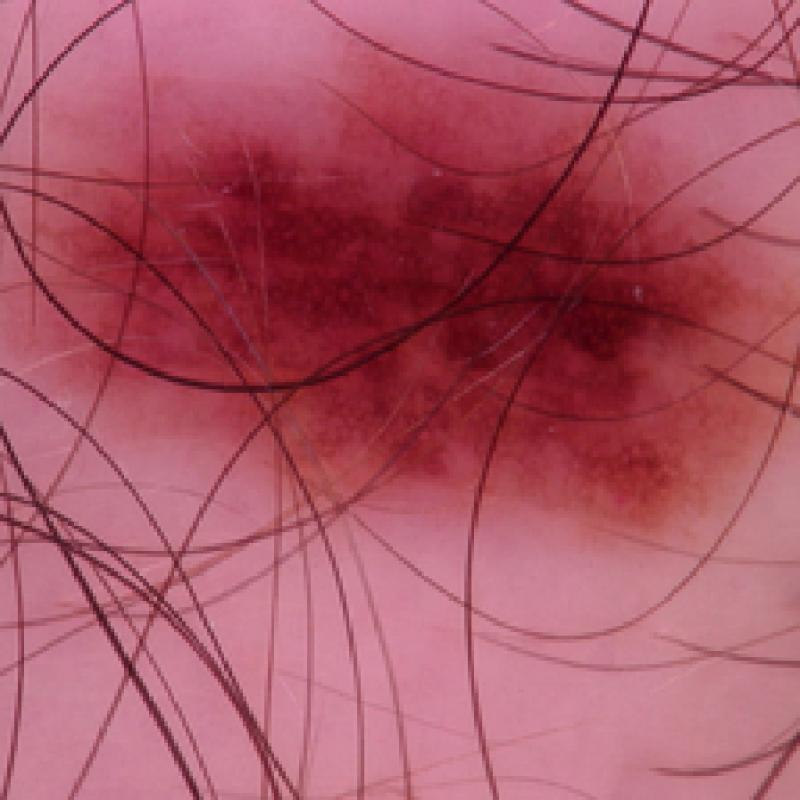benign: (61, 90, 733, 543)
